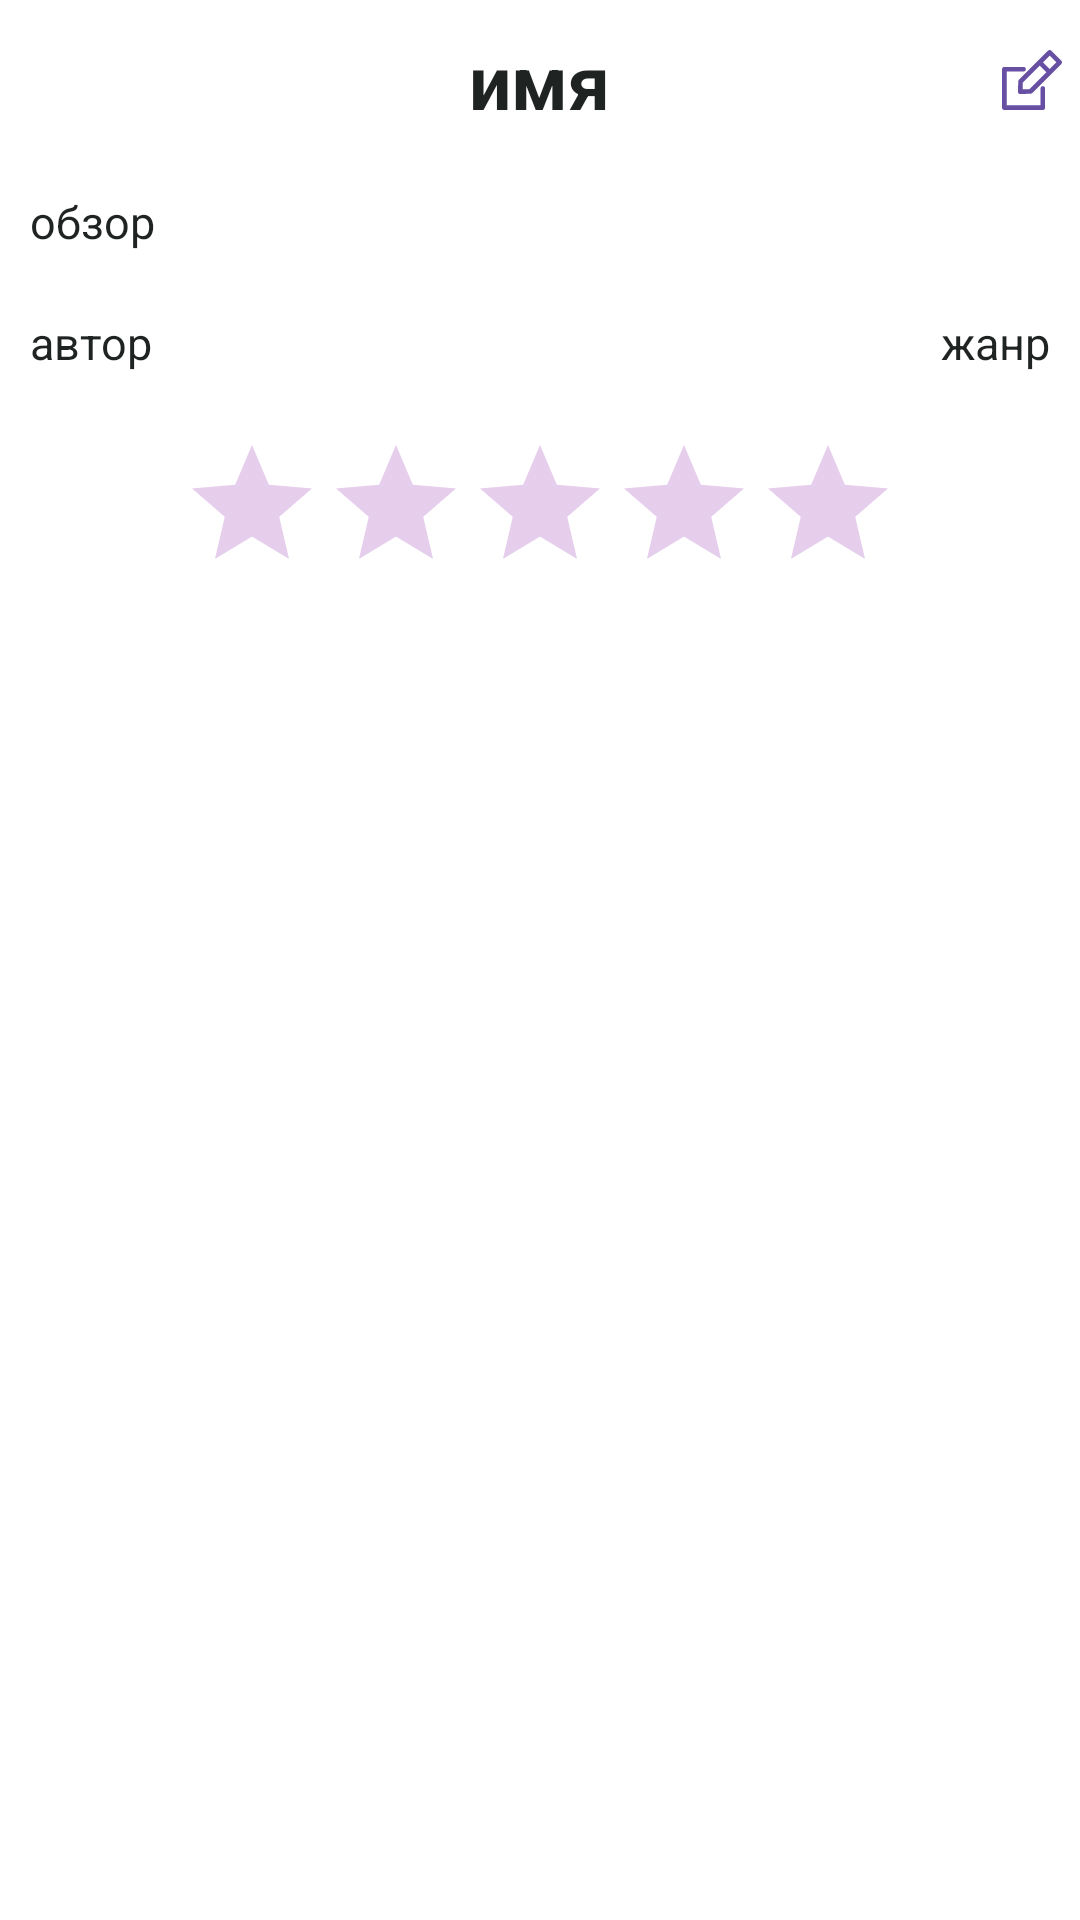

Screen size 1080 × 1920. Icon name, then its center in pixels as (x,y):
edit: (1032,80)
